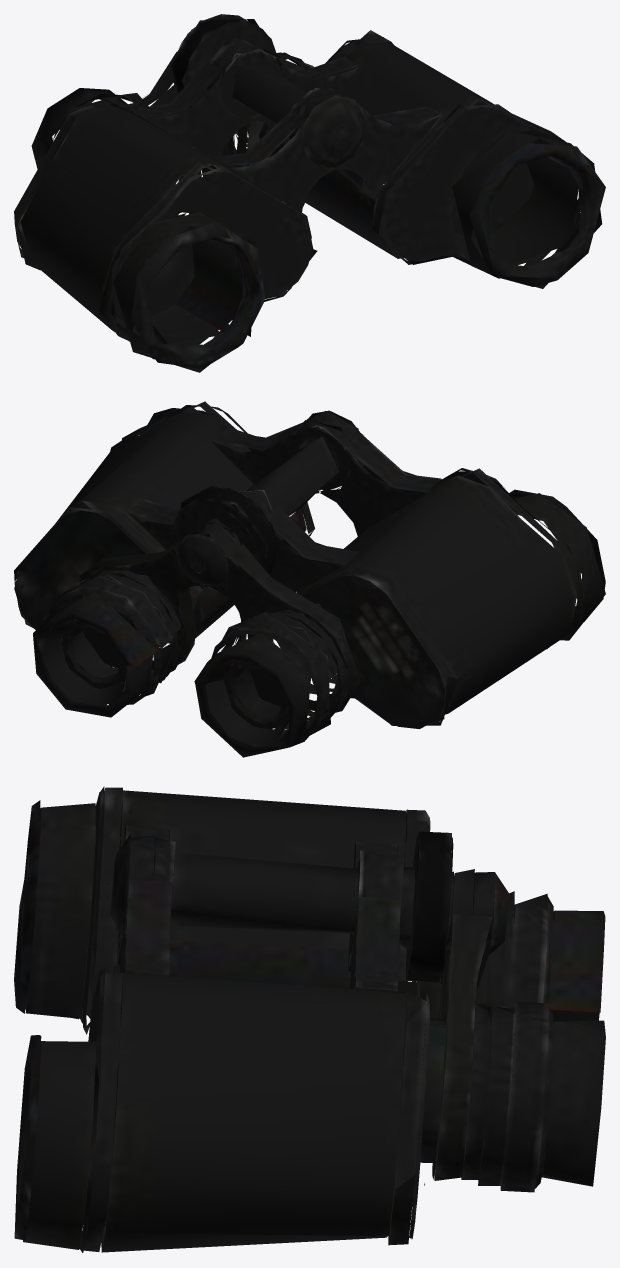
File: binoculars.glb
3 renders of one model, top to bottom at view 1: azimuth 30°, elevation 25°; view 2: azimuth 150°, elevation 25°; view 3: azimuth 270°, elevation 25°, orthographic. The views are drawn at different scales.
Visible parts, largest first — view 1: binoculars_left; view 2: binoculars_left; view 3: binoculars_left.
Part boxes in pixels (left/top/right/bottom): binoculars_left: left=14, top=14, right=605, bottom=372; binoculars_left: left=14, top=401, right=605, bottom=757; binoculars_left: left=14, top=786, right=605, bottom=1252.
Size of the model in its own units: 0.1549 by 0.0654 by 0.118.
Materials: 1 (1 with a texture image).
